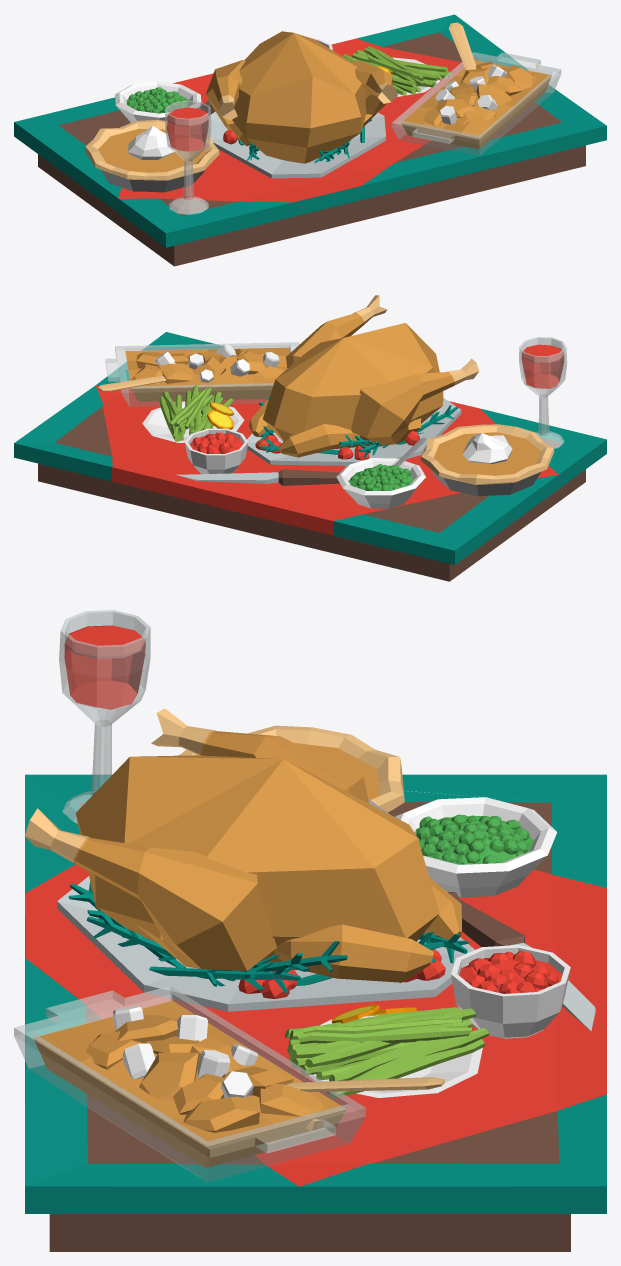
File: food.glb
The picture shows the model from 3 angles, top to bottom: view 1: azimuth 30°, elevation 25°; view 2: azimuth 150°, elevation 25°; view 3: azimuth 270°, elevation 25°; orthographic projection. The views are drawn at different scales.
Parts seen in each view (by area): view 1: group1682028761, group1427563321, group1064736458, group54830602, group1851416312, group951097621, group2021311519, group210694401; view 2: group1682028761, group1427563321, group1064736458, group54830602, group1851416312, group210694401, group2021311519, group951097621, group411193429, group1297430190; view 3: group1682028761, group1427563321, group1064736458, group54830602, group210694401, group2021311519, group951097621, group411193429, group1851416312, group1297430190, group881329496, group557063871 (+1 smaller).
Boxes of the visible parts, bbox=[...] form: group1682028761: bbox=[14, 14, 606, 247]; group1427563321: bbox=[205, 31, 397, 178]; group1064736458: bbox=[391, 22, 561, 155]; group54830602: bbox=[38, 145, 585, 266]; group1851416312: bbox=[85, 120, 219, 192]; group951097621: bbox=[165, 100, 211, 214]; group2021311519: bbox=[115, 81, 201, 122]; group210694401: bbox=[343, 46, 450, 96]; group1682028761: bbox=[14, 332, 606, 564]; group1427563321: bbox=[247, 295, 479, 465]; group1064736458: bbox=[98, 342, 299, 406]; group54830602: bbox=[38, 463, 585, 581]; group1851416312: bbox=[420, 424, 554, 496]; group210694401: bbox=[142, 385, 244, 442]; group2021311519: bbox=[336, 458, 425, 508]; group951097621: bbox=[519, 337, 567, 448]; group411193429: bbox=[184, 428, 248, 474]; group1297430190: bbox=[176, 469, 339, 485]; group1682028761: bbox=[25, 774, 606, 1213]; group1427563321: bbox=[25, 708, 474, 1011]; group1064736458: bbox=[14, 986, 444, 1181]; group54830602: bbox=[49, 1214, 570, 1251]; group210694401: bbox=[285, 1004, 489, 1098]; group2021311519: bbox=[395, 797, 557, 897]; group951097621: bbox=[59, 610, 150, 823]; group411193429: bbox=[451, 945, 570, 1038]; group1851416312: bbox=[178, 725, 404, 813]; group1297430190: bbox=[447, 892, 595, 1030]; group881329496: bbox=[149, 962, 300, 993]; group557063871: bbox=[197, 941, 347, 978].
Size of the model in its own units: 2.61 by 0.8042 by 1.56.
